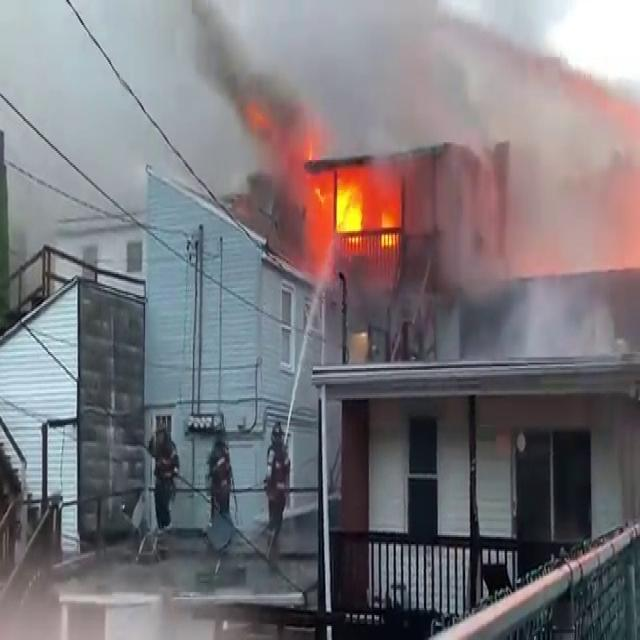Fire: (302, 149, 409, 256)
Smoke: (403, 0, 635, 366), (71, 0, 464, 206)
